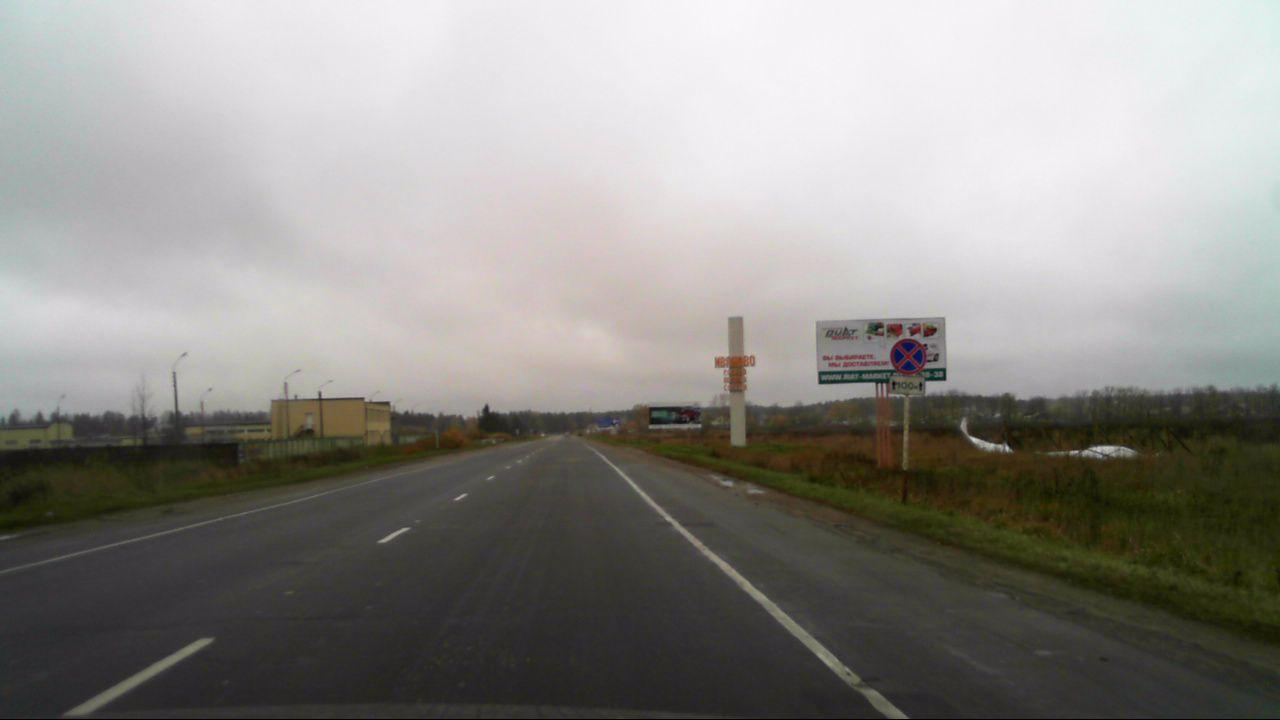road_sign: (889, 338, 927, 375), (890, 376, 925, 393)
